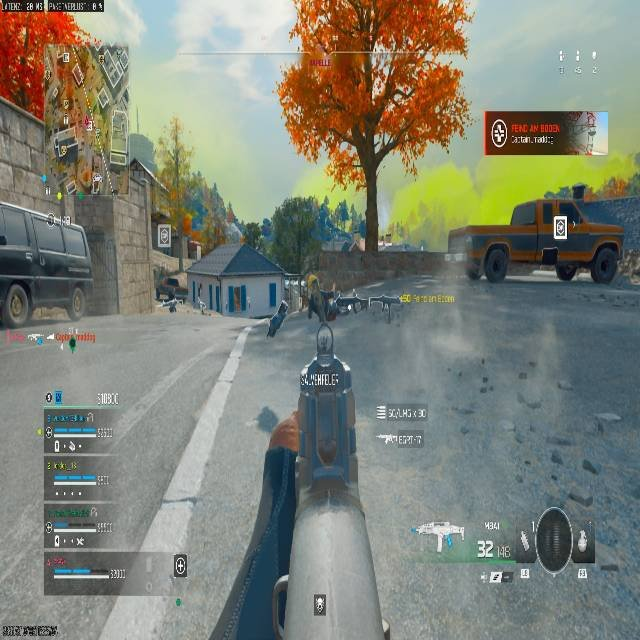player: (158, 276, 183, 313), (161, 294, 178, 313)
